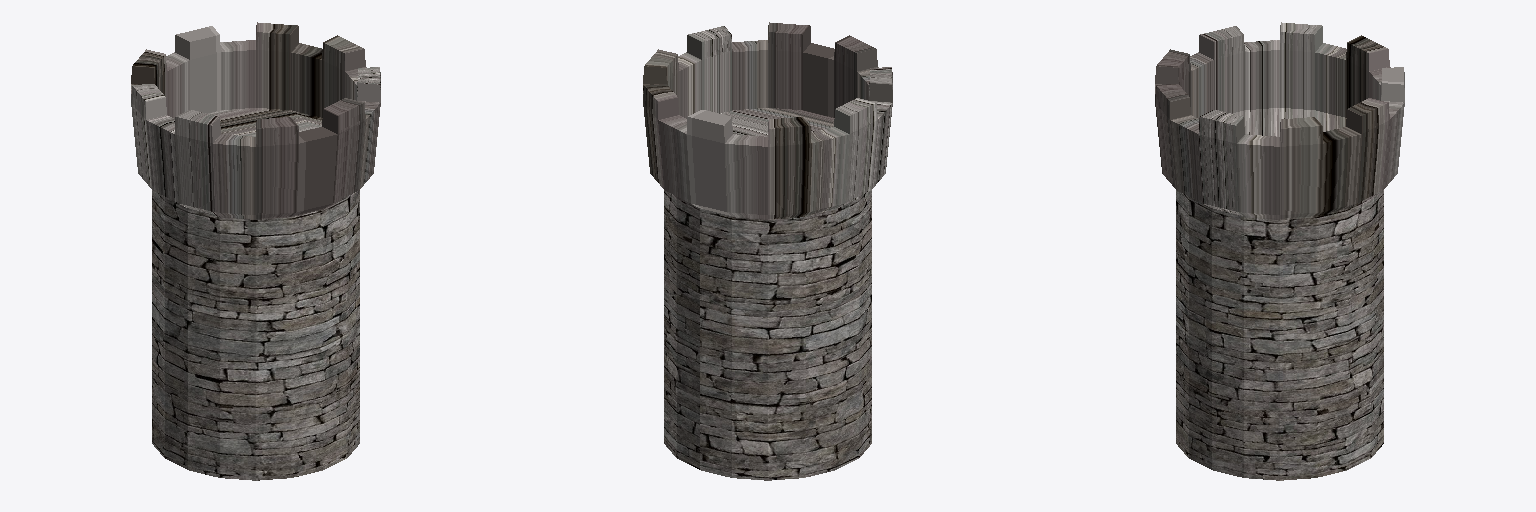
The picture shows the model from 3 angles: view 1: azimuth 30°, elevation 25°; view 2: azimuth 150°, elevation 25°; view 3: azimuth 270°, elevation 25°; orthographic projection.
Parts seen in each view (by area): view 1: Cylinder001; view 2: Cylinder001; view 3: Cylinder001.
Part boxes in pixels (x1,y1,x2,y2): Cylinder001: (131, 22, 380, 480); Cylinder001: (643, 22, 892, 480); Cylinder001: (1155, 22, 1404, 480).
Bounding box in the file's own units: 49.88 × 78.22 × 49.12.
Materials: 1 (1 with a texture image).